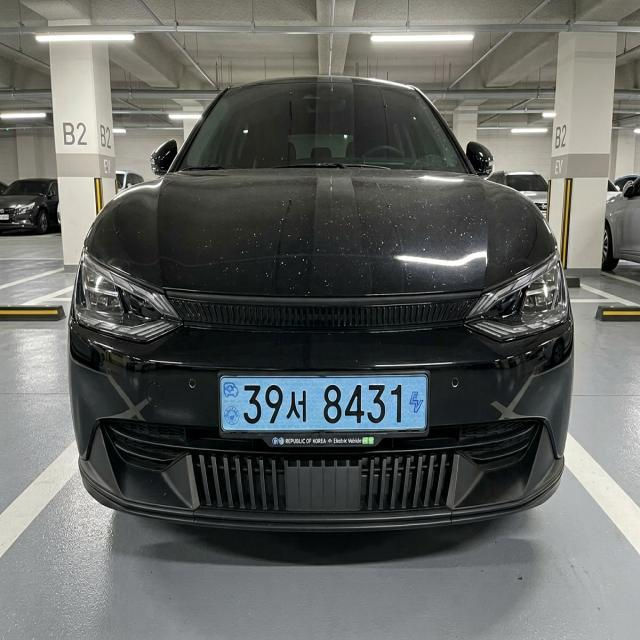car: (207, 343, 445, 465)
carev: (404, 373, 431, 429), (219, 374, 242, 438)
